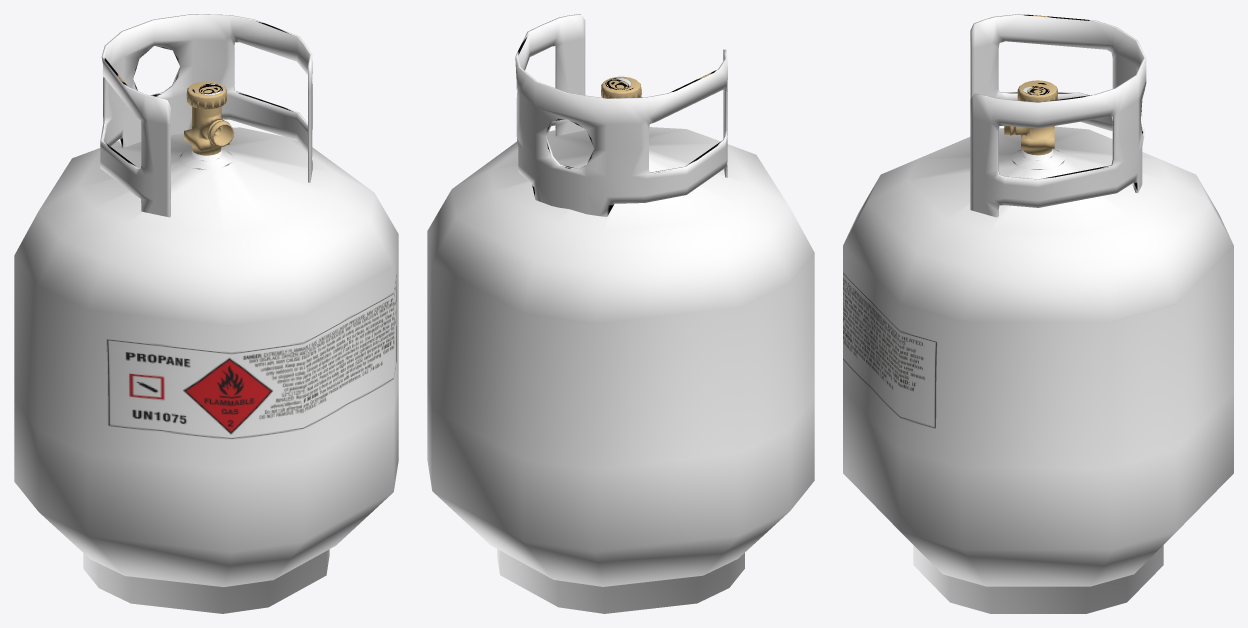
The model's file is propane.fbx.
The picture shows the model from 3 angles, left to right: view 1: azimuth 30°, elevation 25°; view 2: azimuth 150°, elevation 25°; view 3: azimuth 270°, elevation 25°; orthographic projection.
Visible parts, largest first — view 1: propne; view 2: propne; view 3: propne.
Boxes of the visible parts, x1,y1,x2,y2 form: propne: (14, 14, 398, 613); propne: (427, 14, 814, 613); propne: (843, 14, 1233, 613).
Bounding box in the file's own units: 43.15 × 64.21 × 44.86.
Materials: 1 (1 with a texture image).
